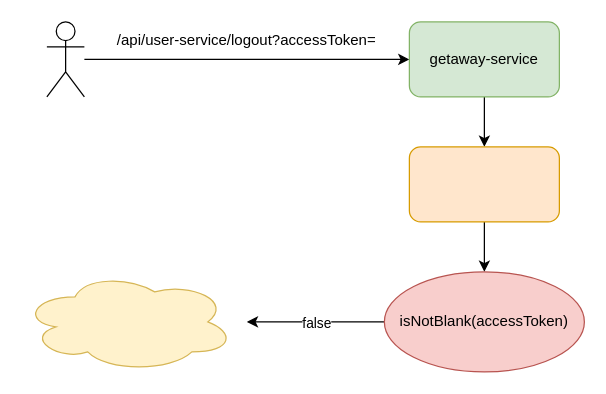
This 606x394 diagram has some shape labels left out. The shapes that lost their labels are listed below. From the top down, each one's centre as x and y in pixels, then its label:
At point 483,184: "user_service.logout".
At point 127,321: "根据accesTokens删除缓存".
